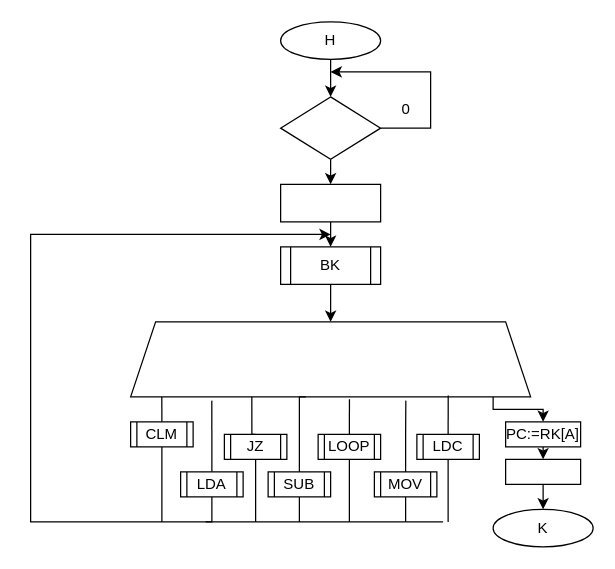
The diagram is 615 pixels wide and 569 high, and some of its shapes have lost their labels. Here are the shapes that lost their labels. From the top down, the centre of each, then its label:
At [330,127]: "TST".
At [330,202]: "PC:=SA".
At [330,359]: "Дешифрация КОП CLM LDA JZ SUB LOOP MOV LDC HLT".
At [542,471]: "TST:=0".
